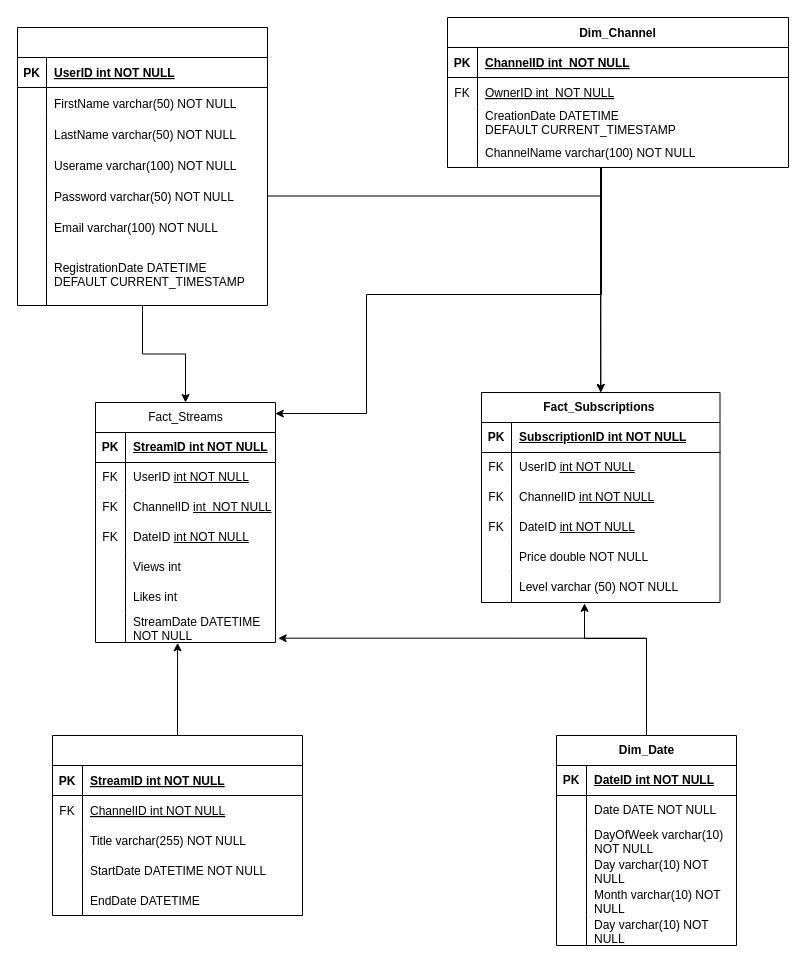
The diagram is 806 pixels wide and 963 high, and some of its shapes have lost their labels. The box of each missing label's shape, as (x1, y1, x2, y2) in pixels:
Dim_Stream: (52, 734, 302, 916)
Dim_User: (16, 26, 268, 306)
